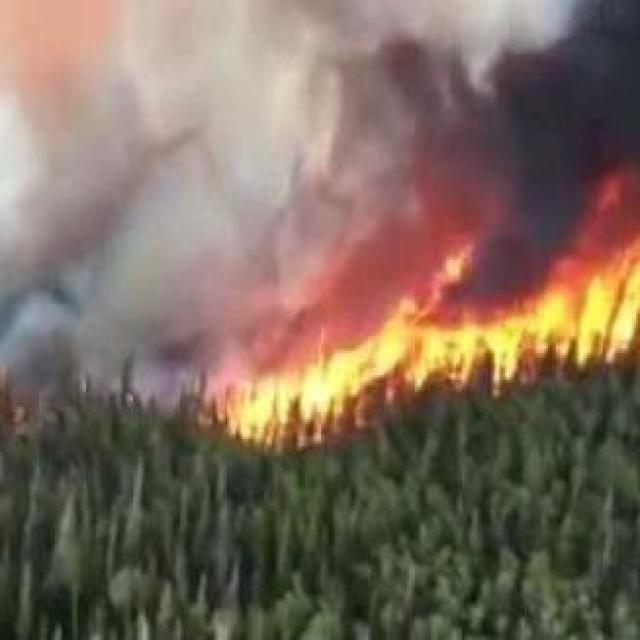Fire: (179, 242, 640, 444)
